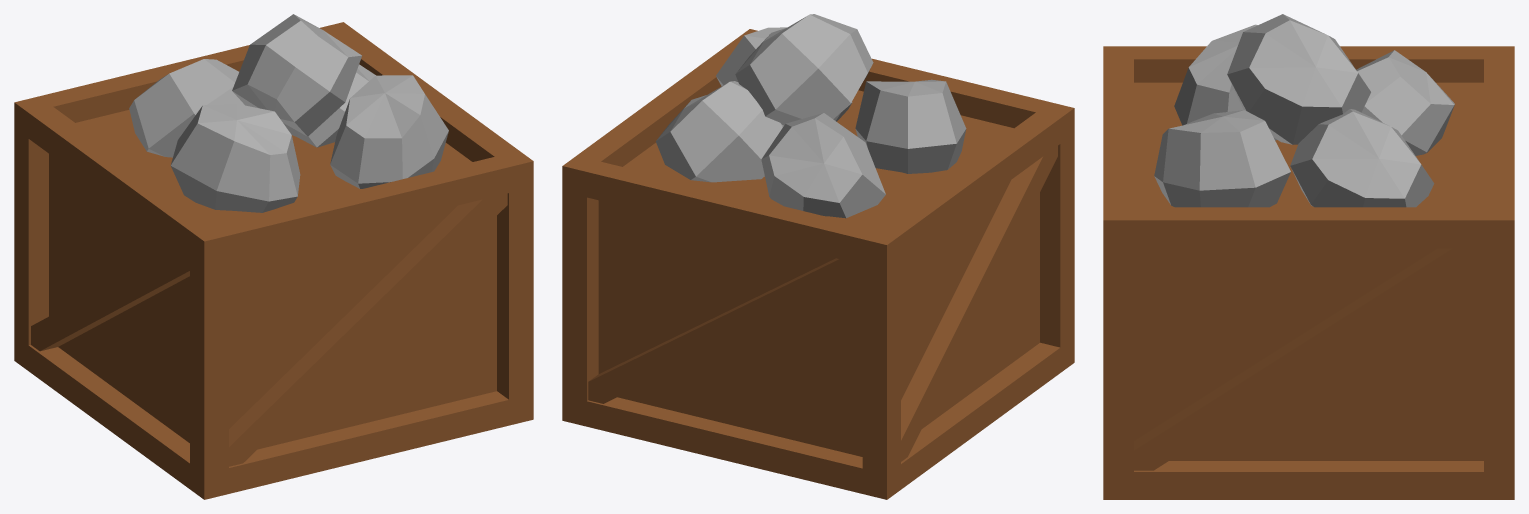
The model's file is RockBox.FBX.
The picture shows the model from 3 angles, left to right: view 1: azimuth 30°, elevation 25°; view 2: azimuth 150°, elevation 25°; view 3: azimuth 270°, elevation 25°; orthographic projection. The views are drawn at different scales.
Parts seen in each view (by area): view 1: Box, ThrowingRock; view 2: Box, ThrowingRock; view 3: Box, ThrowingRock.
Boxes of the visible parts, x1=… form: Box: x1=14, y1=22, x2=533, y2=499; ThrowingRock: x1=232, y1=14, x2=361, y2=136; Box: x1=562, y1=27, x2=1074, y2=499; ThrowingRock: x1=735, y1=14, x2=873, y2=125; Box: x1=1103, y1=24, x2=1514, y2=499; ThrowingRock: x1=1227, y1=14, x2=1370, y2=144.
Bounding box in the file's own units: 40 × 43.16 × 40.
